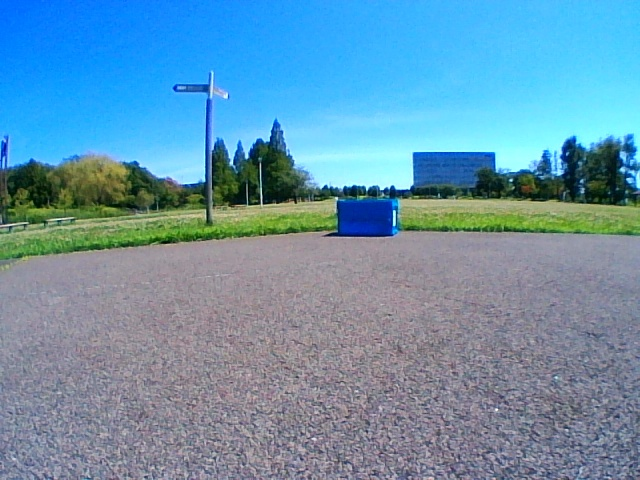blue_box: (337, 199, 399, 236)
tag: (392, 208, 397, 228)
